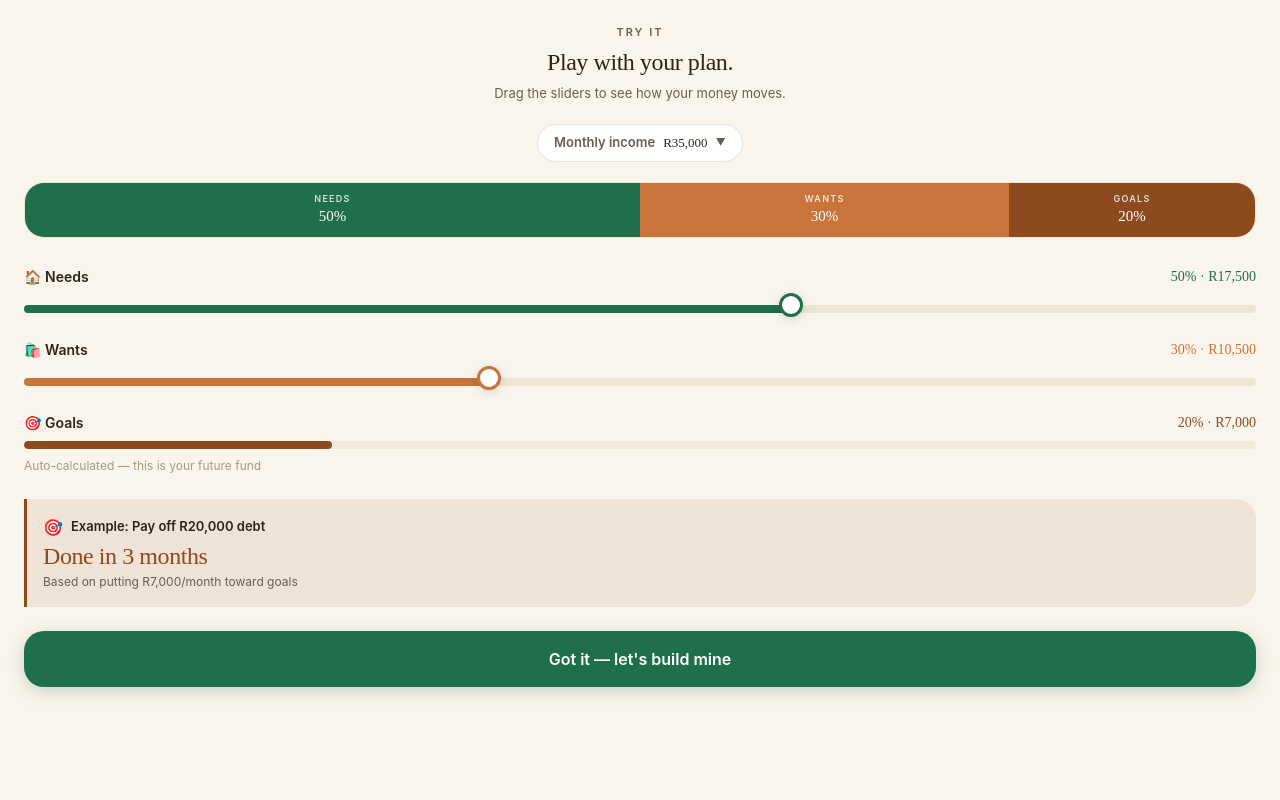
Phase2Slider › expands the income disclosure on click
Step 1. Click the button "Monthly income R35,000 ▼" → click(640, 143), box [537,124,743,162]
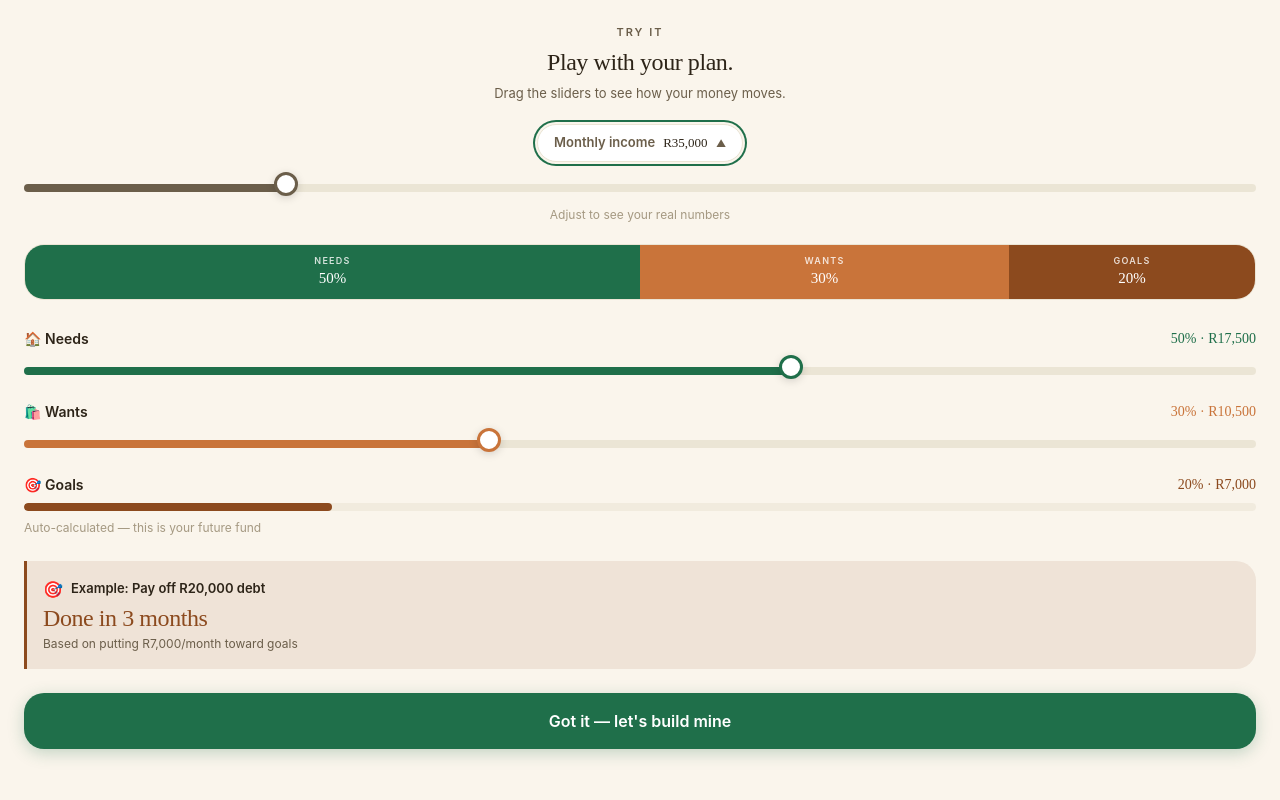
Check: the slider named "income amount" is shown, box [24,184,1256,192]
